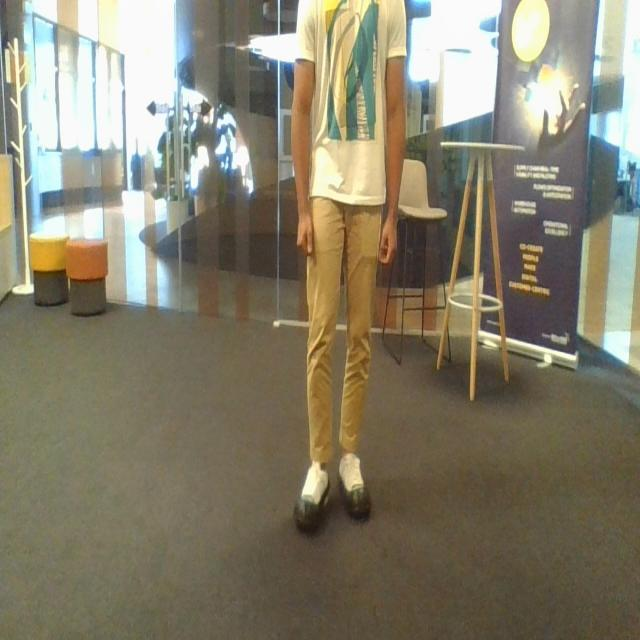shoes: (290, 450, 342, 534), (334, 448, 380, 529)
